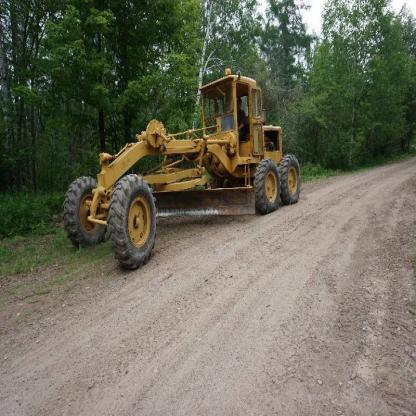bull_dozer/loader/grader: (51, 65, 304, 271)
